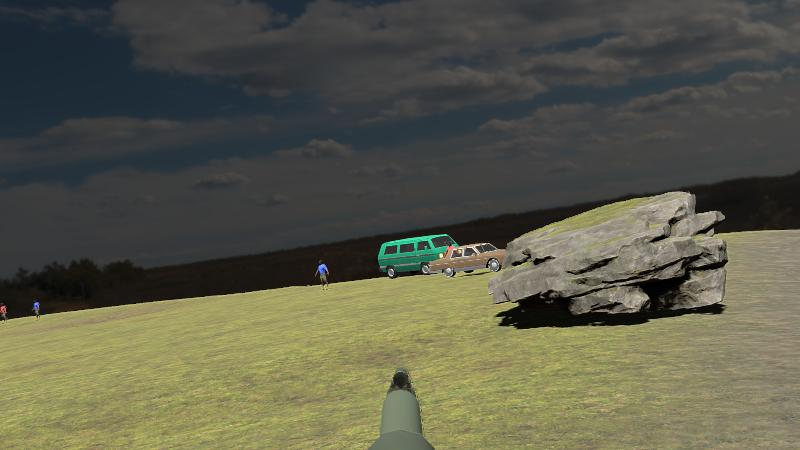Human: (315, 259, 330, 292), (315, 259, 329, 291)
car: (378, 234, 461, 278), (426, 243, 520, 278)
